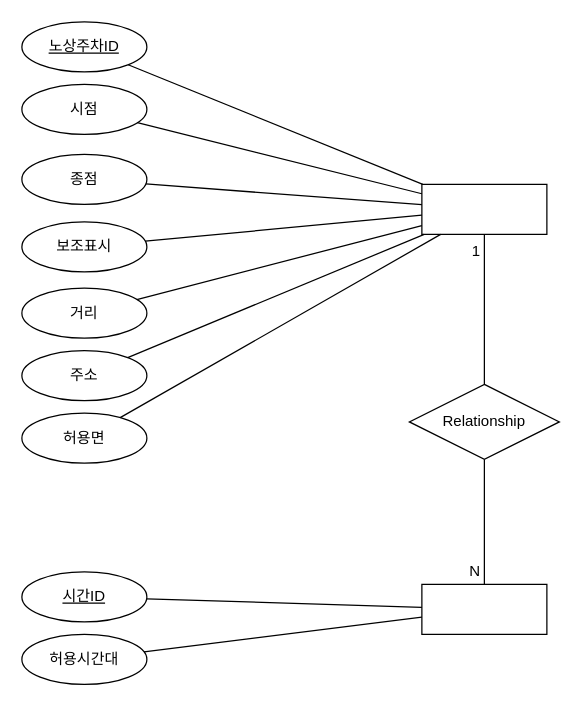
Image size: 581x706. Some labels were removed from this diagram. The box of each missing label's shape, as (x1, y1, x2, y2) in pixels:
노상주차: (421, 183, 547, 234)
시간: (421, 583, 547, 634)
